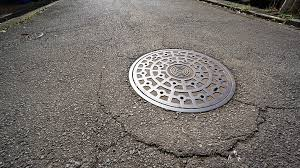Manhole-Closed: (128, 39, 235, 114)
